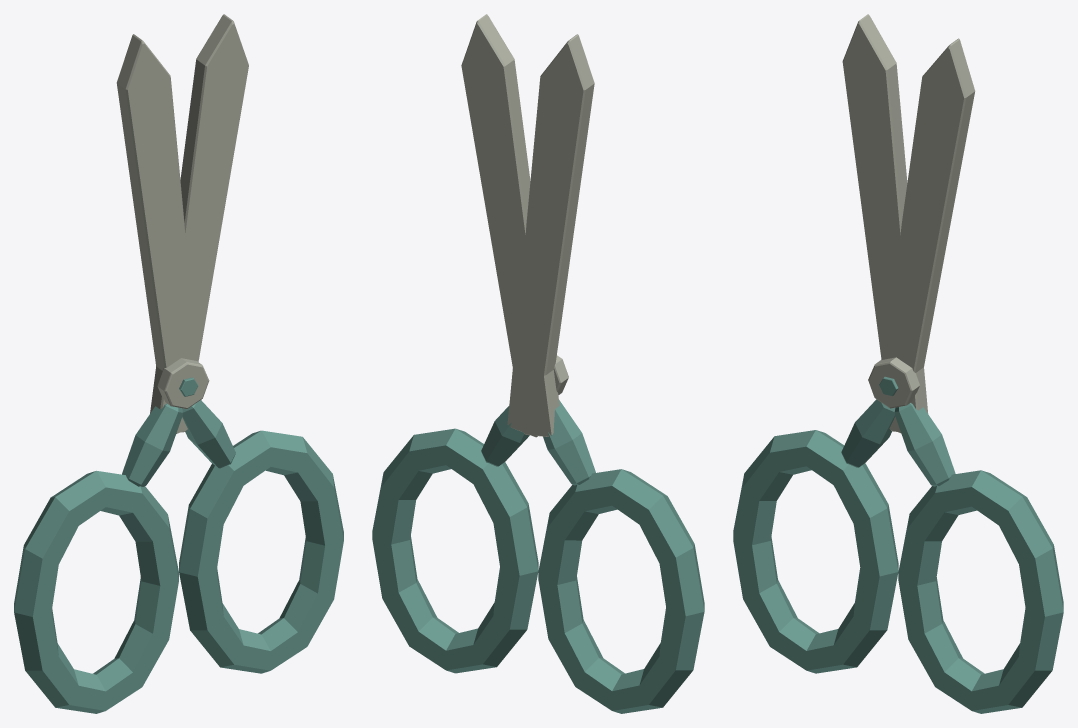
File: scissors.glb
3 views of the same model, side by side, from view 1: azimuth 30°, elevation 25°; view 2: azimuth 150°, elevation 25°; view 3: azimuth 330°, elevation 25° (orthographic).
Visible parts, largest first — view 1: scissors; view 2: scissors; view 3: scissors.
Part boxes in pixels (box(x1,y1,x2,y2)): scissors: box(14, 14, 343, 713); scissors: box(372, 14, 704, 713); scissors: box(733, 14, 1063, 713).
Size of the model in its own units: 0.088 by 0.1691 by 0.00961.
